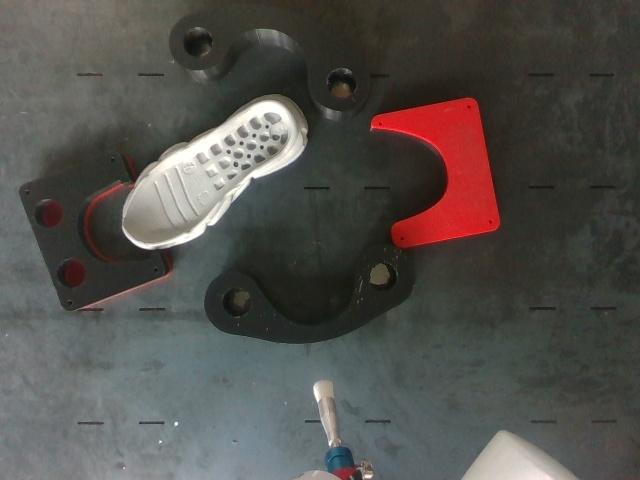shoes: (124, 101, 295, 246)
